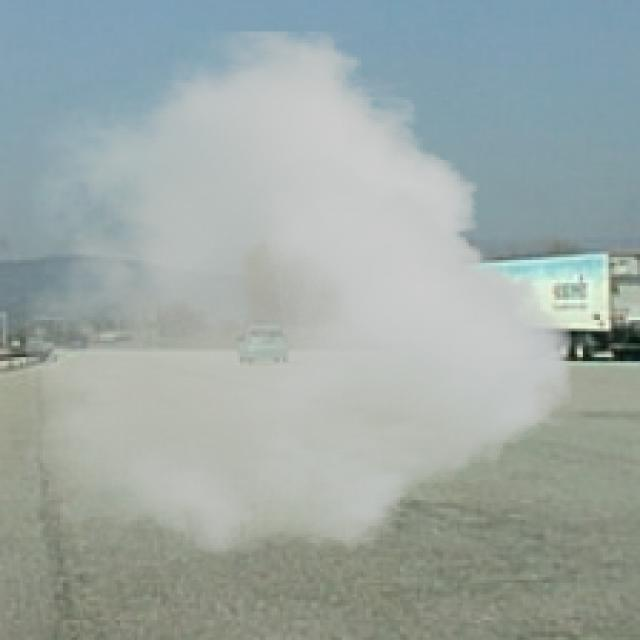smoke: (26, 32, 571, 557)
